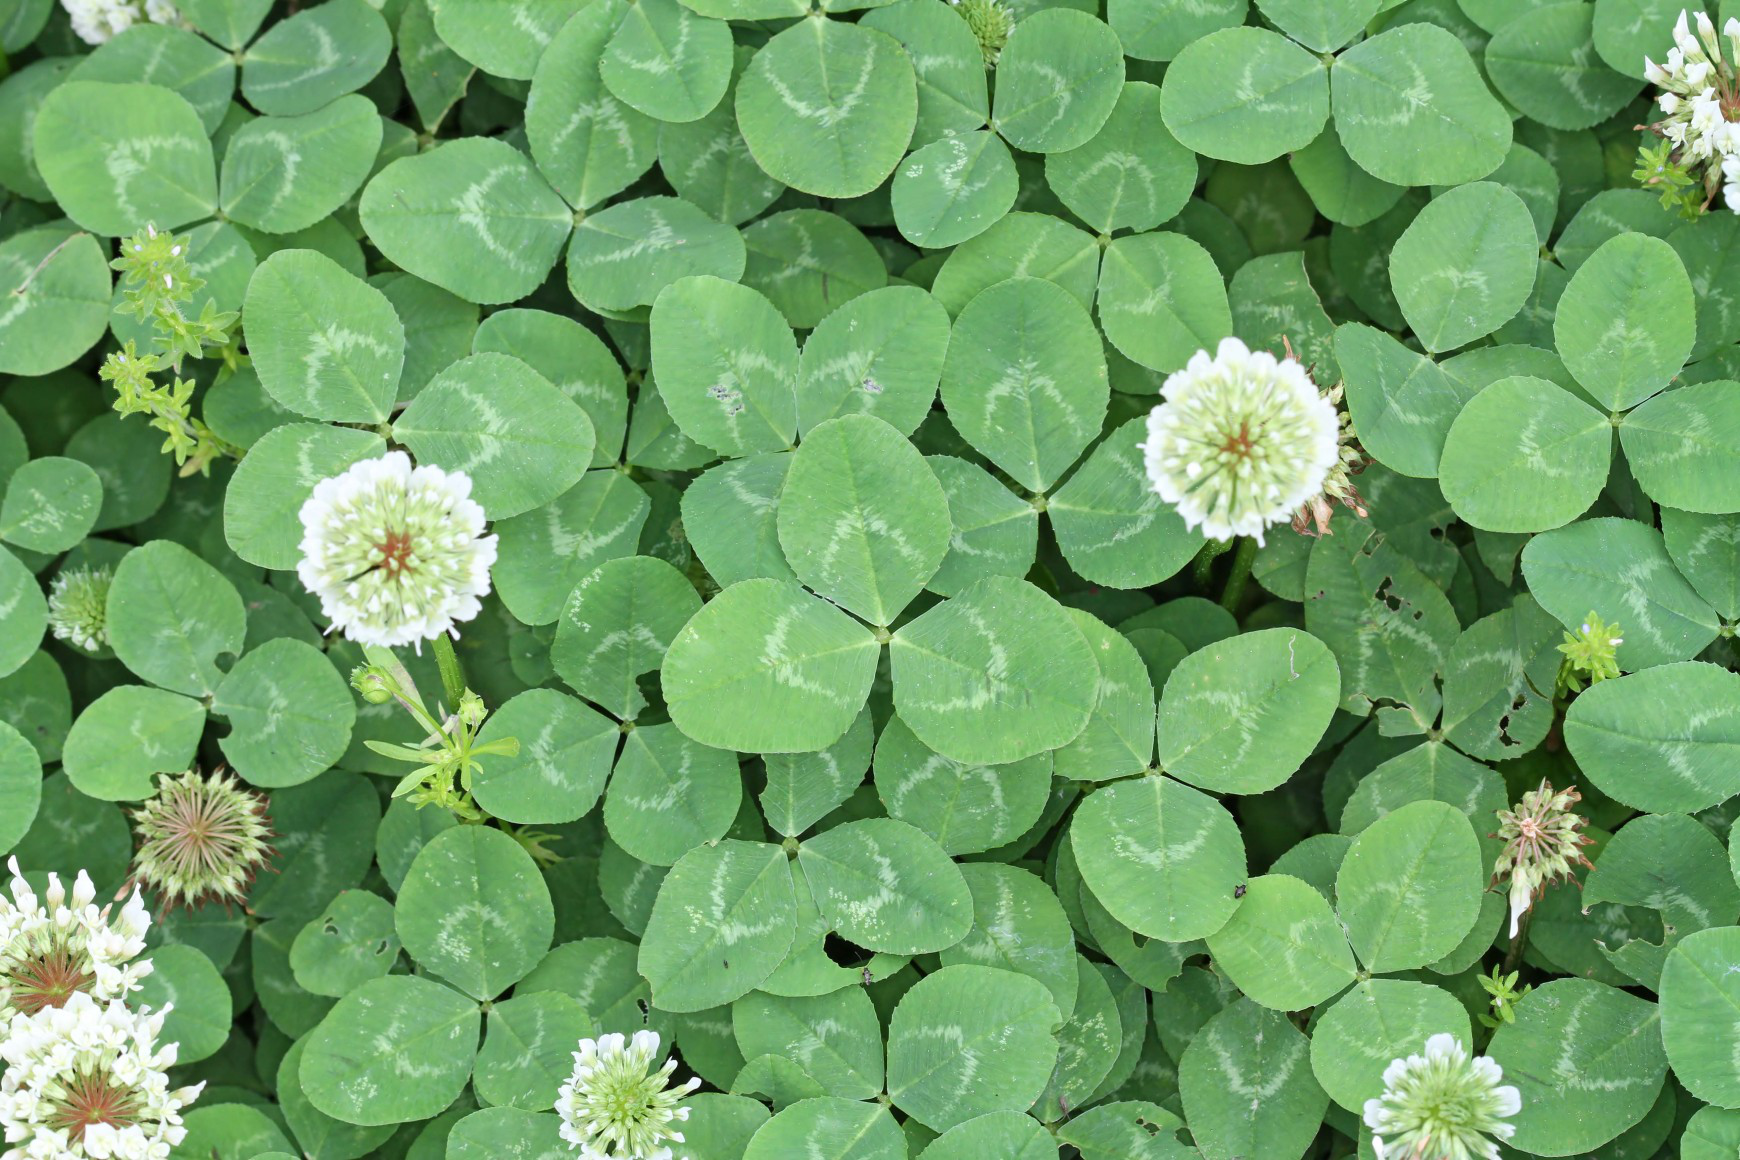clover: (655, 407, 1104, 772), (355, 6, 750, 318), (1025, 603, 1343, 946), (27, 76, 388, 373), (1434, 228, 1740, 539), (294, 818, 596, 1128), (460, 548, 743, 871), (54, 536, 359, 816), (851, 3, 1129, 252), (725, 962, 1065, 1160), (1155, 9, 1516, 192)
clover blossom white: (1133, 337, 1374, 546), (293, 445, 502, 654), (1, 989, 214, 1160), (1, 848, 151, 1050), (1623, 5, 1740, 228), (1353, 1032, 1522, 1156), (552, 1031, 706, 1160)
